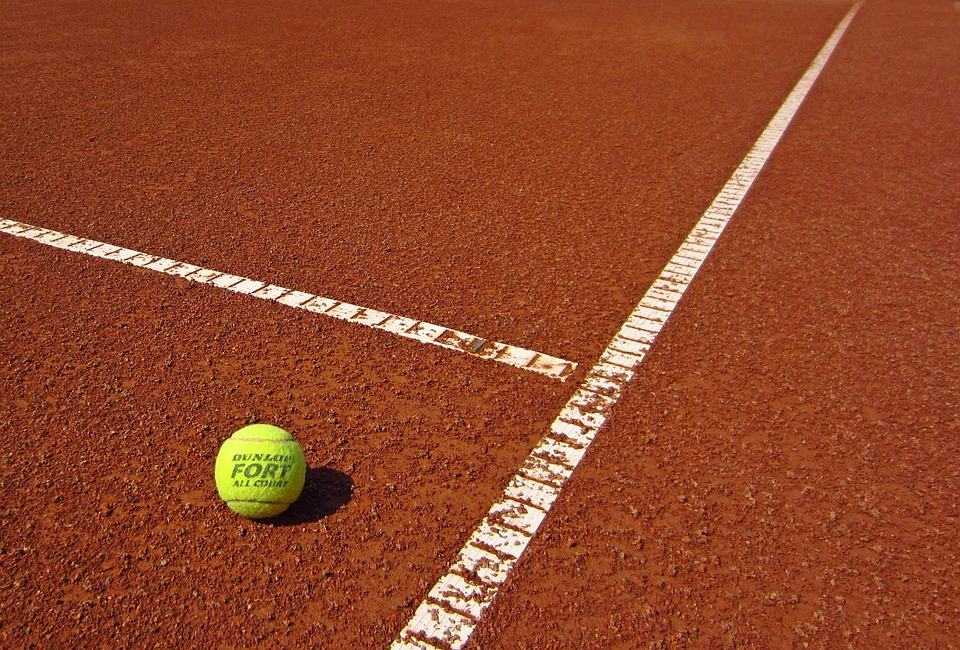tennis_ball: (213, 422, 310, 520)
